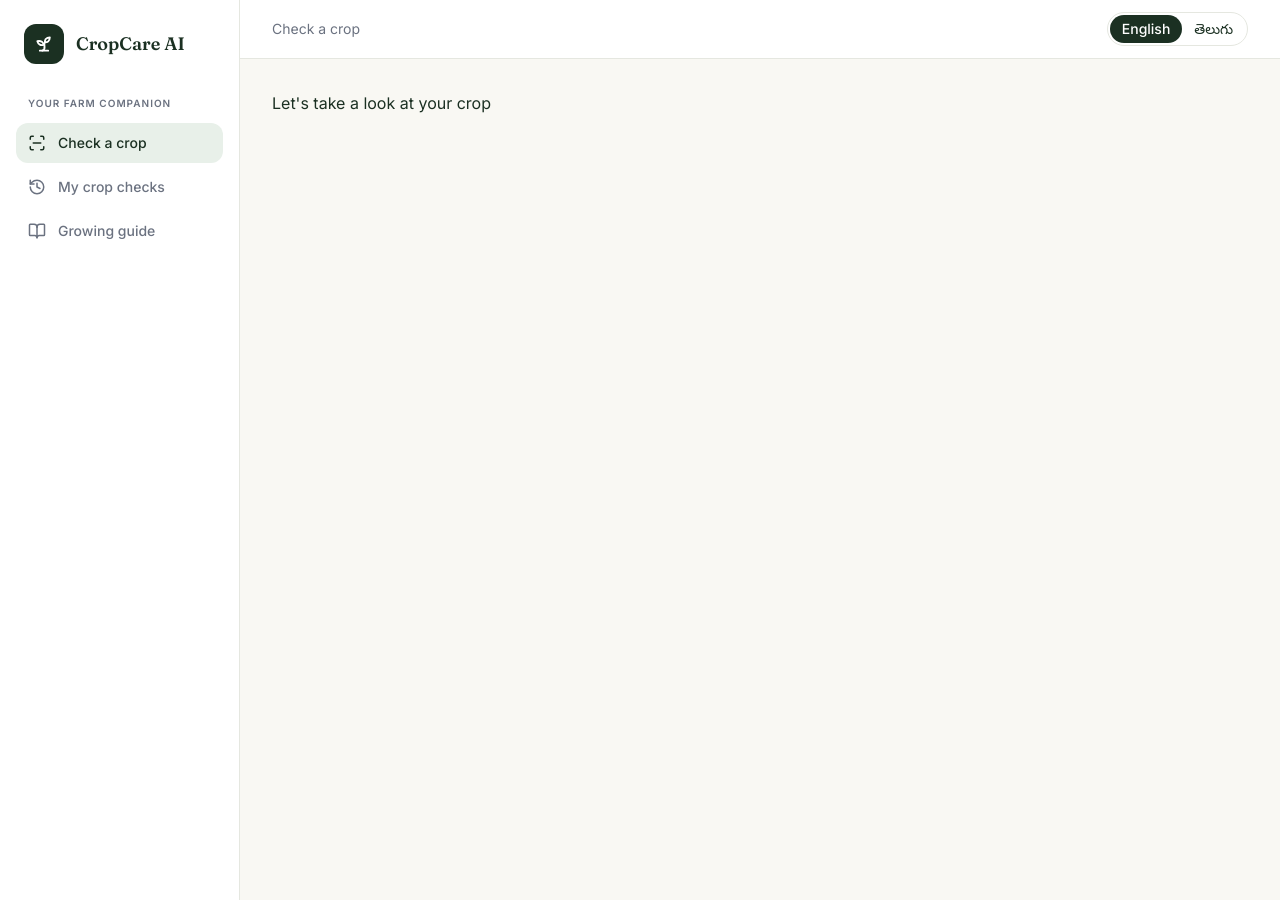
Test: language toggle › switches the check navigation label to Telugu
Expected: the link "Check a crop" is shown, [16,123,223,163]
Click the button "తెలుగు": (1214, 29) [1182,15,1245,43]
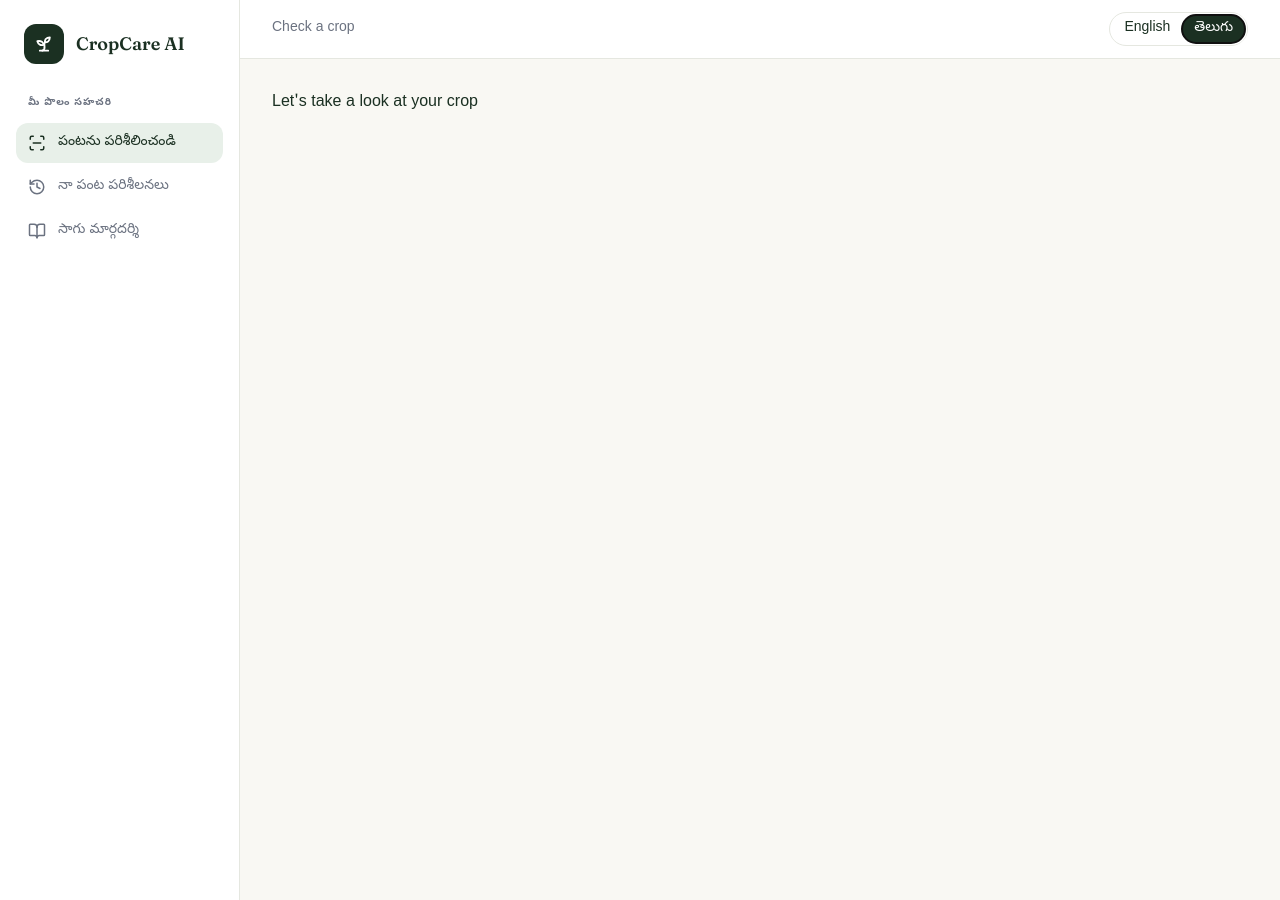
Expected: the link "పంటను పరిశీలించండి" is shown, [16,123,223,163]
Click the button "English": (1147, 29) [1112,15,1182,43]
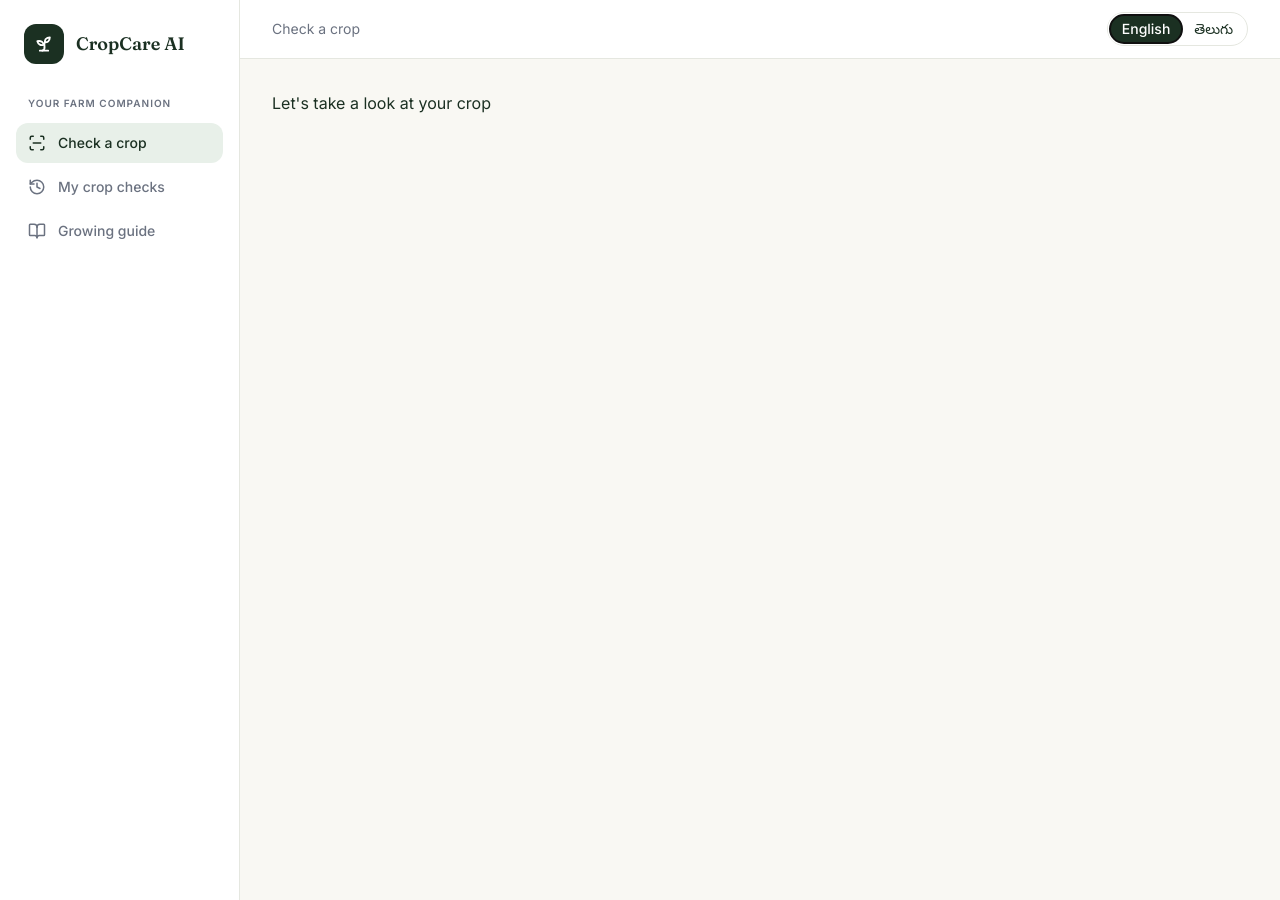
Expected: the link "Check a crop" is shown, [16,123,223,163]
